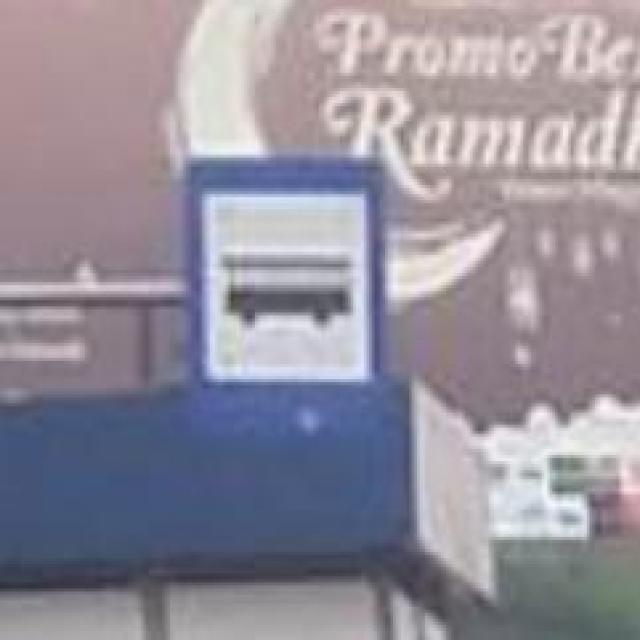traffic sign: (183, 158, 388, 440)
